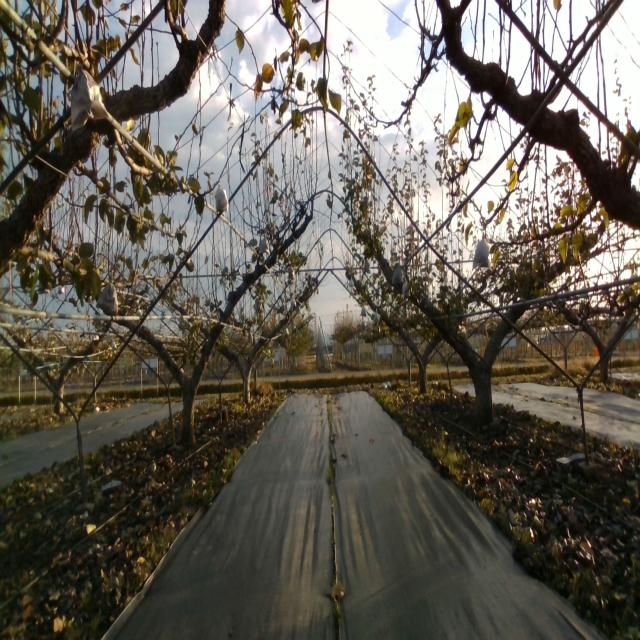pearbags: (70, 63, 110, 132), (473, 232, 489, 269), (214, 180, 228, 213), (391, 261, 404, 287), (258, 231, 270, 256)
